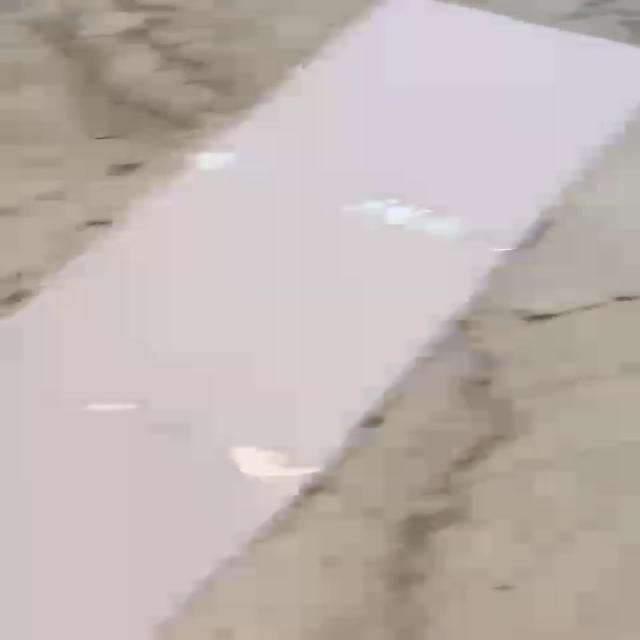road: (1, 0, 640, 640)
